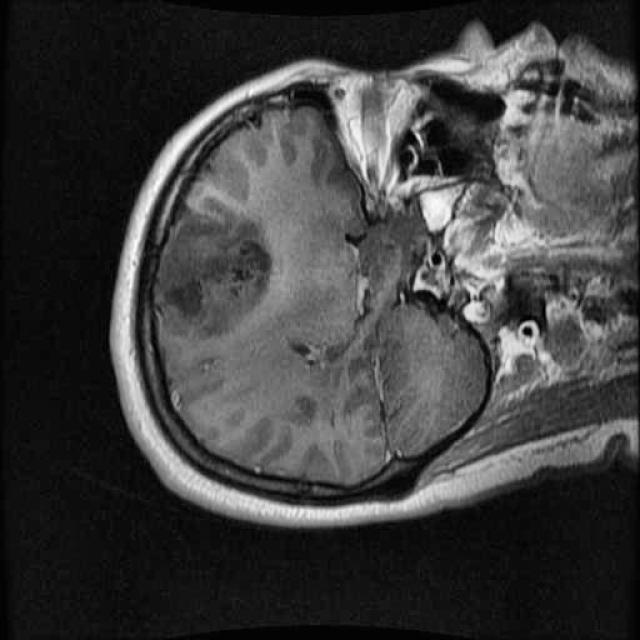Tumor: (128, 176, 292, 364)
